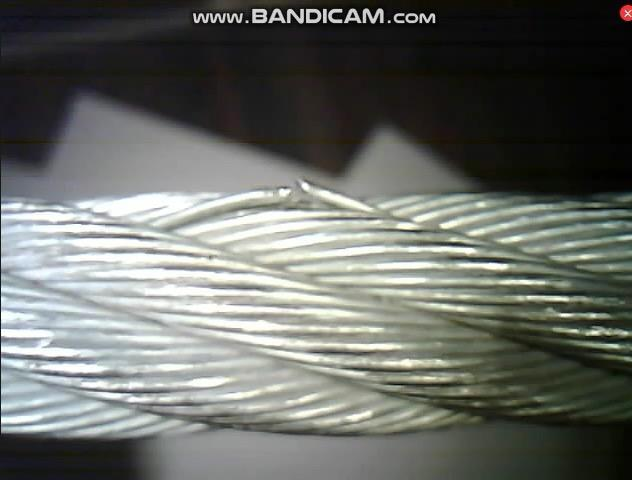break: (227, 171, 354, 222)
